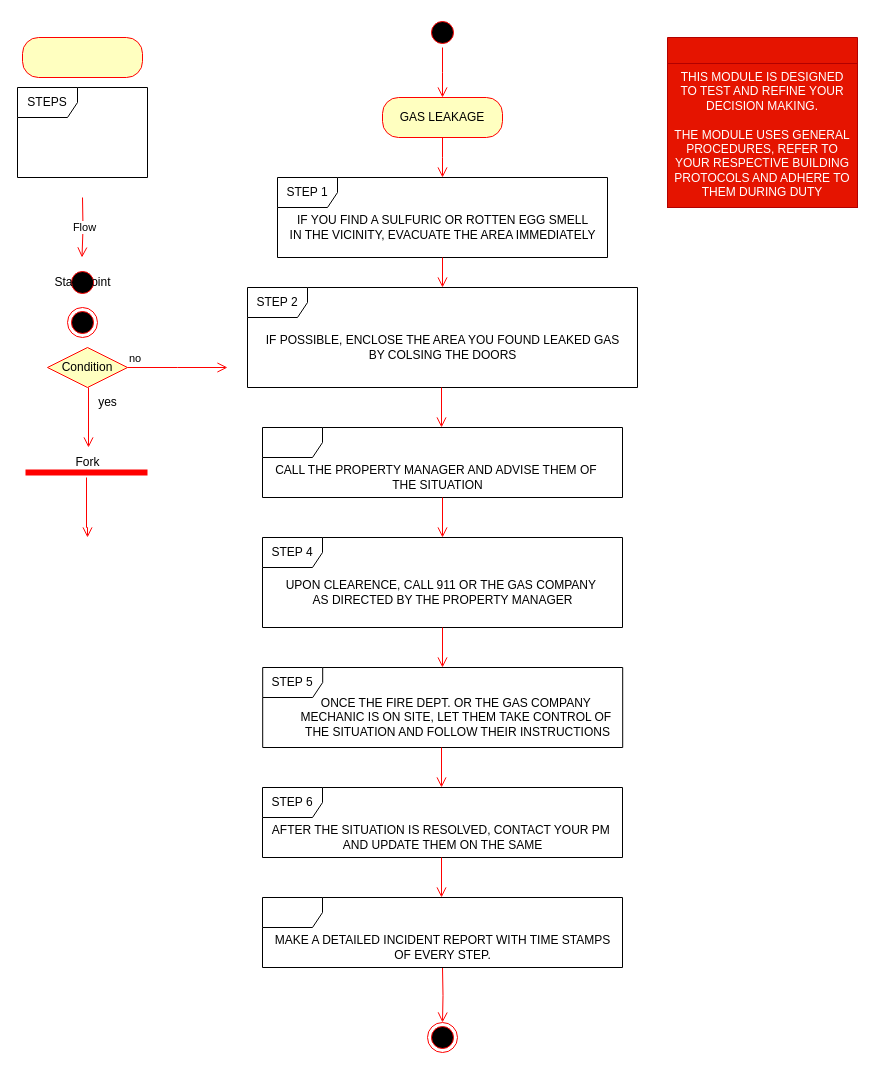
Image size: 875x1070. Some labels were removed from this diagram. Here are the shapes that lost their labels. From the top down, the box of each, then its label:
(22, 36, 142, 78): Situation Context
(666, 36, 858, 208): DISCLAIMER
(66, 306, 98, 338): End Point
(262, 426, 622, 498): STEP 3
(262, 896, 622, 968): STEP 7
